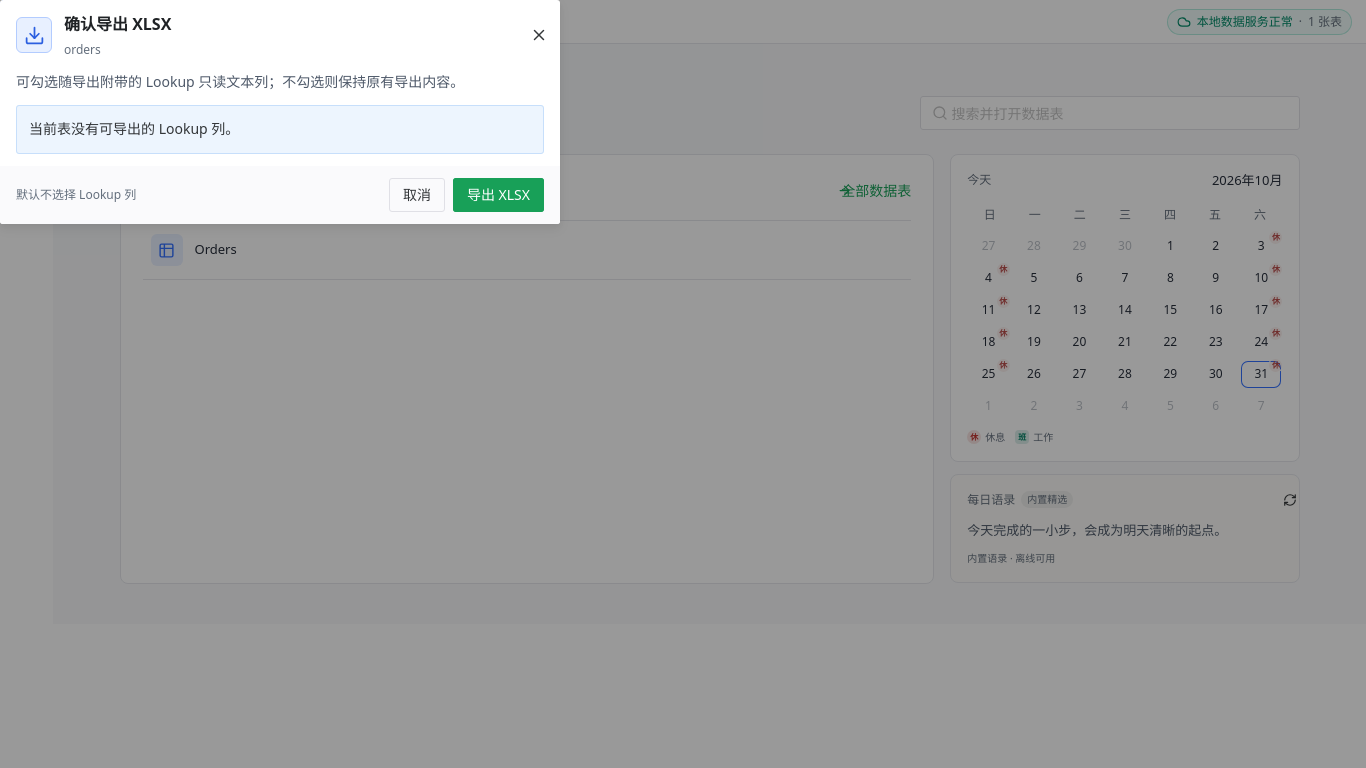
Test: WorkspaceView › runs export through the renderer-host task bridge
This screenshot has width=1366, height=768.
Click the button with test id "export-lookup-confirm": [498, 195] box [453, 178, 544, 212]
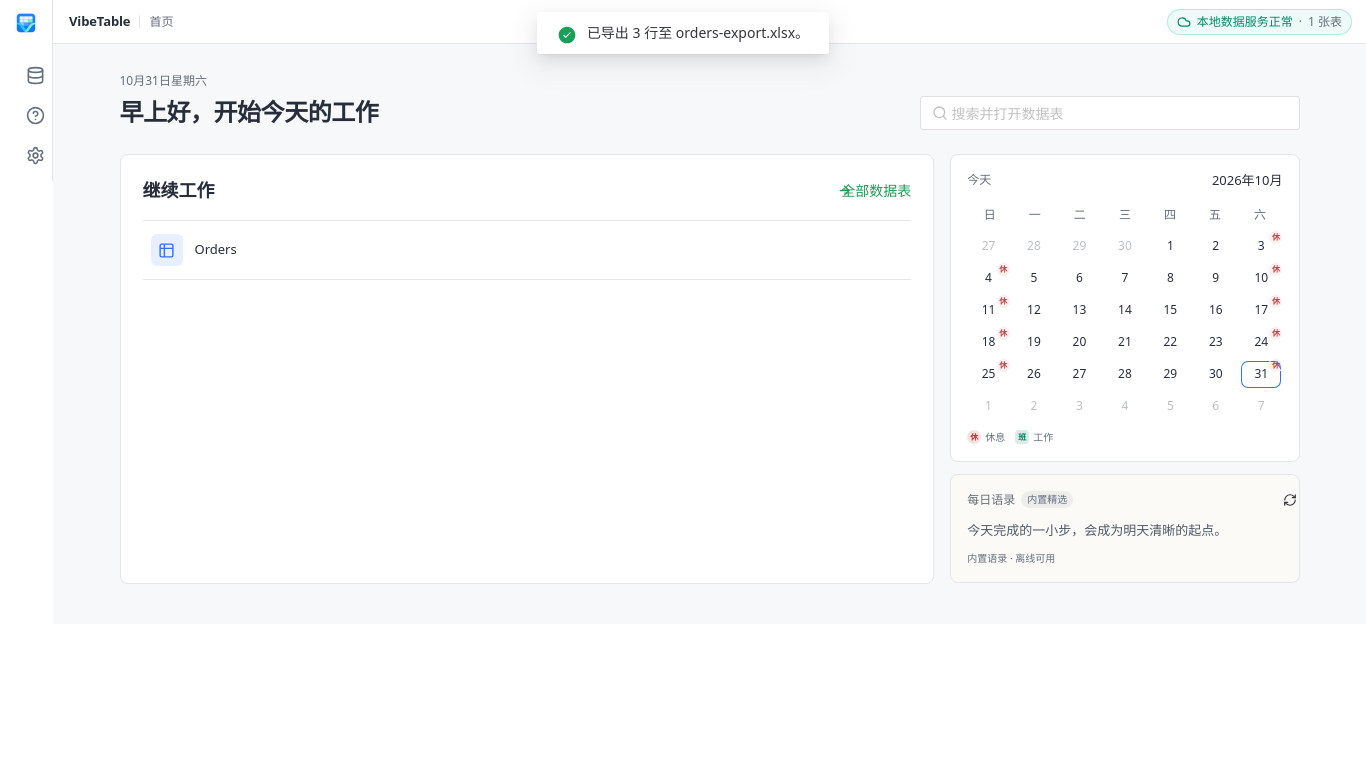
Expected: the text "已导出 3 行至 orders-export.xlsx。" is shown, [587, 22, 809, 44]
